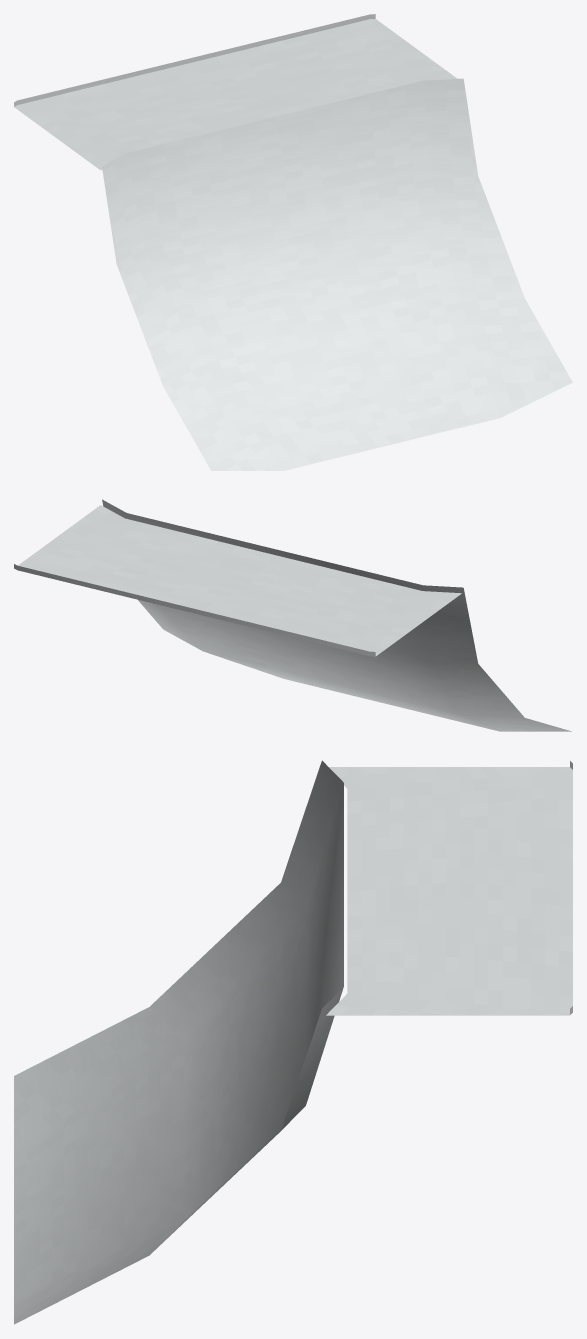
The model's file is bowl_medium_0_2_0.obj.
3 views of the same model, one above another, from view 1: azimuth 30°, elevation 25°; view 2: azimuth 150°, elevation 25°; view 3: azimuth 270°, elevation 25° (orthographic). The views are drawn at different scales.
Visible parts, largest first — view 1: bowl_medium_0_2_0; view 2: bowl_medium_0_2_0; view 3: bowl_medium_0_2_0.
Boxes of the visible parts, x1,y1,x2,y2 form: bowl_medium_0_2_0: (14,14,572,470); bowl_medium_0_2_0: (14,499,571,731); bowl_medium_0_2_0: (14,760,572,1324).
Bounding box in the file's own units: 3 × 1.92 × 2.85.
